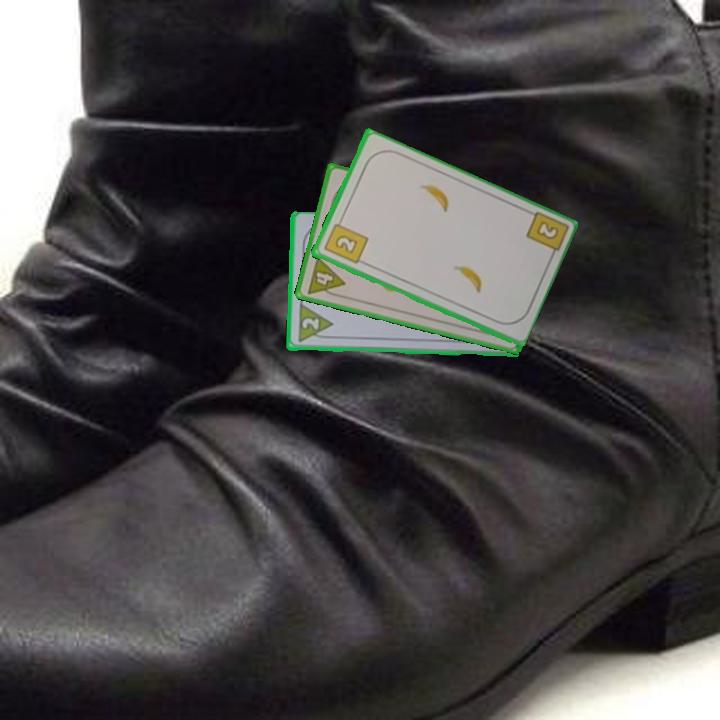2b: (320, 215, 370, 267), (532, 218, 561, 243)
2p: (294, 302, 336, 346)
4p: (303, 253, 348, 301)
